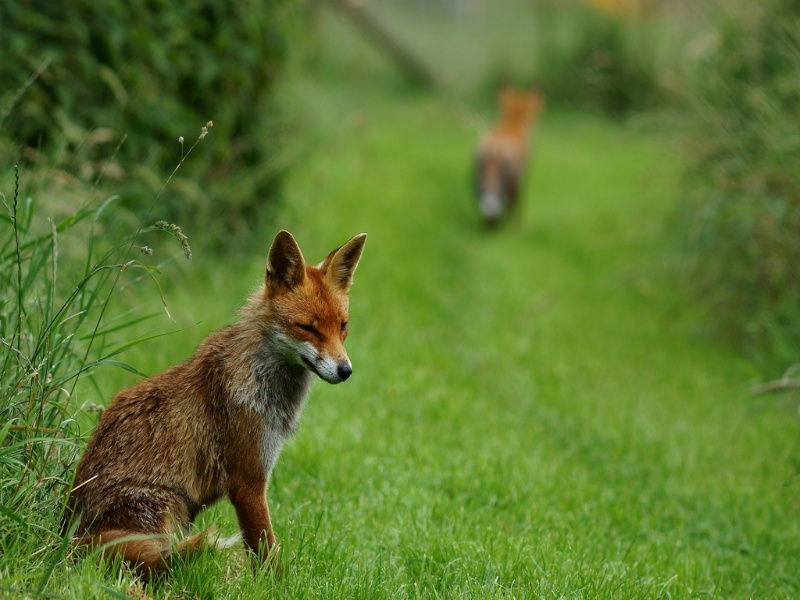fox: (36, 226, 374, 584), (464, 85, 550, 242)
